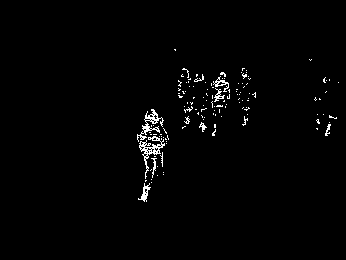person: (137, 105, 169, 205), (211, 67, 230, 139), (236, 65, 256, 129), (191, 69, 209, 135), (177, 65, 193, 133)
